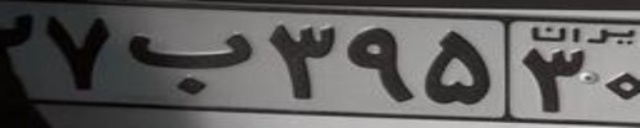0: (602, 69, 639, 102)
2: (1, 11, 41, 91)
3: (266, 23, 338, 100), (520, 46, 585, 113)
6: (420, 29, 493, 105)
7: (41, 11, 117, 90)
9: (346, 25, 414, 102)
be: (122, 32, 254, 96)
